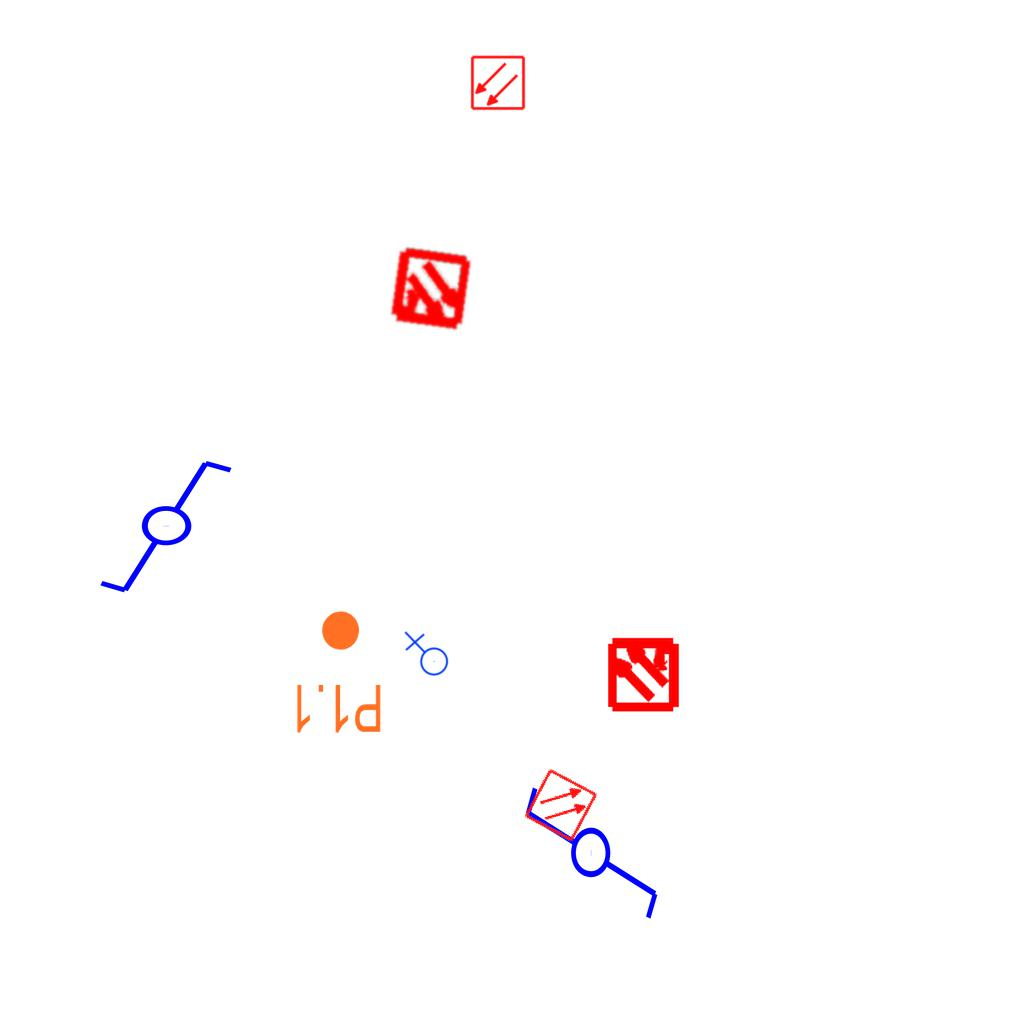Downlight_LED_Einbauleuchten_Flur: (291, 608, 384, 736)
Elektroanschluss_allgemein_230V_Geraeteanschlussdose_230V: (402, 631, 449, 680)
OT_Multisensormelder_(Kombination_RMO_WMD): (366, 226, 495, 355), (587, 616, 700, 729)
RMO_Rauchmelder_optischer: (523, 767, 599, 843), (470, 55, 526, 111)
Wechselschalter: (96, 456, 253, 600), (521, 766, 665, 923)
